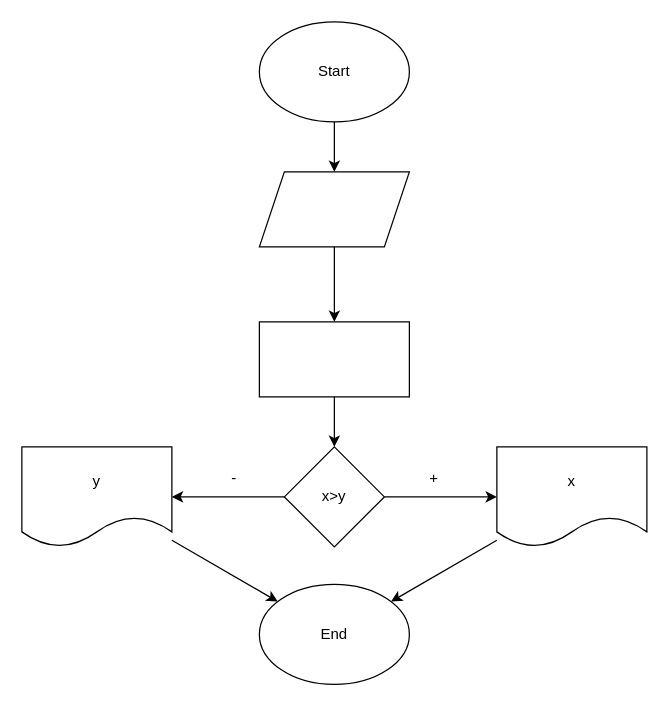
Image size: 669x706. Some labels were removed from this diagram. The centre of each missing label's shape, as x and y in pixels:
number: pixel 333 209
number = rundom (10.99) x=number div 10 y=number mod 10: pixel 333 359
